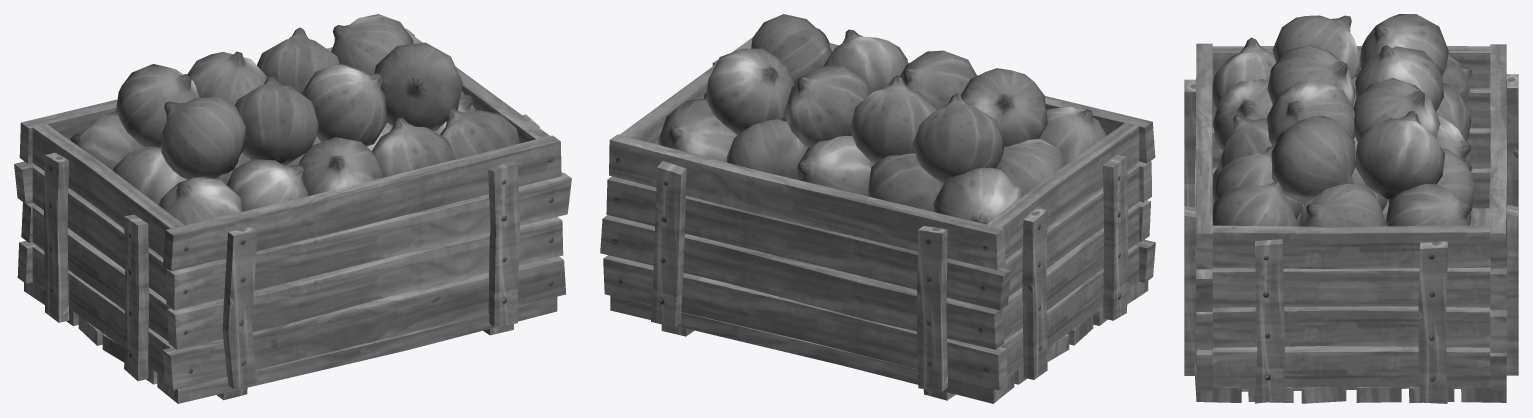
Rendered from Crate01D.fbx.
The picture shows the model from 3 angles, left to right: view 1: azimuth 30°, elevation 25°; view 2: azimuth 150°, elevation 25°; view 3: azimuth 270°, elevation 25°; orthographic projection.
Parts seen in each view (by area): view 1: Crate01_LOD0, Onions04_LOD0, Onions03_LOD0; view 2: Crate01_LOD0, Onions04_LOD0, Onions03_LOD0; view 3: Crate01_LOD0, Onions04_LOD0, Onions03_LOD0.
Boxes of the visible parts, x1=… form: Crate01_LOD0: x1=14, y1=28, x2=571, y2=403; Onions04_LOD0: x1=116, y1=14, x2=462, y2=179; Onions03_LOD0: x1=70, y1=91, x2=520, y2=225; Crate01_LOD0: x1=600, y1=32, x2=1155, y2=403; Onions04_LOD0: x1=705, y1=14, x2=1047, y2=183; Onions03_LOD0: x1=658, y1=93, x2=1106, y2=224; Crate01_LOD0: x1=1184, y1=43, x2=1518, y2=403; Onions04_LOD0: x1=1267, y1=14, x2=1448, y2=203; Onions03_LOD0: x1=1212, y1=37, x2=1474, y2=226.
Size of what is drawn, in the model's own units: 88.9 by 53.75 by 63.42.
